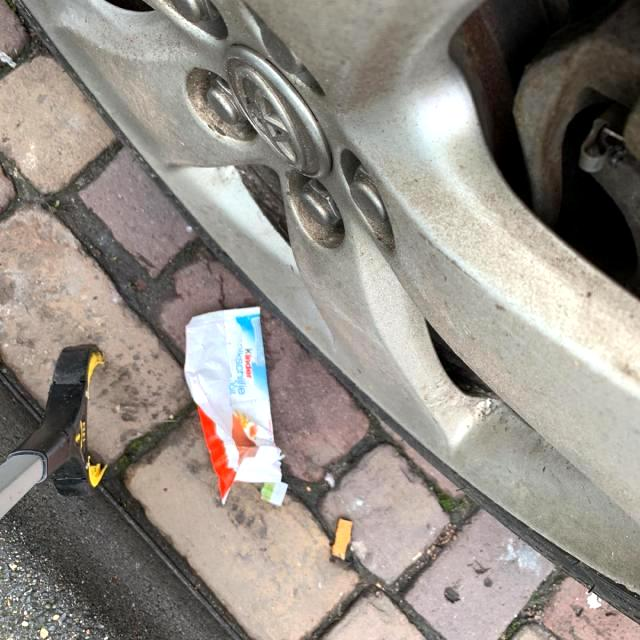Plastic: (182, 303, 284, 507)
